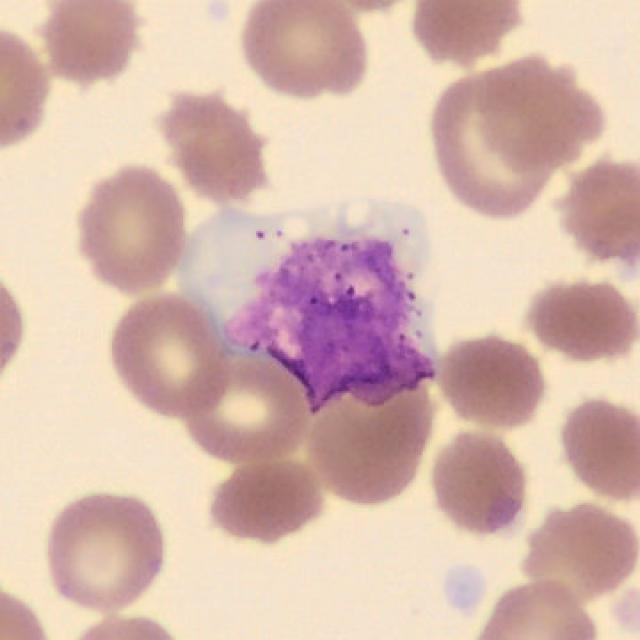Linfocito atipico: (169, 197, 437, 414)
